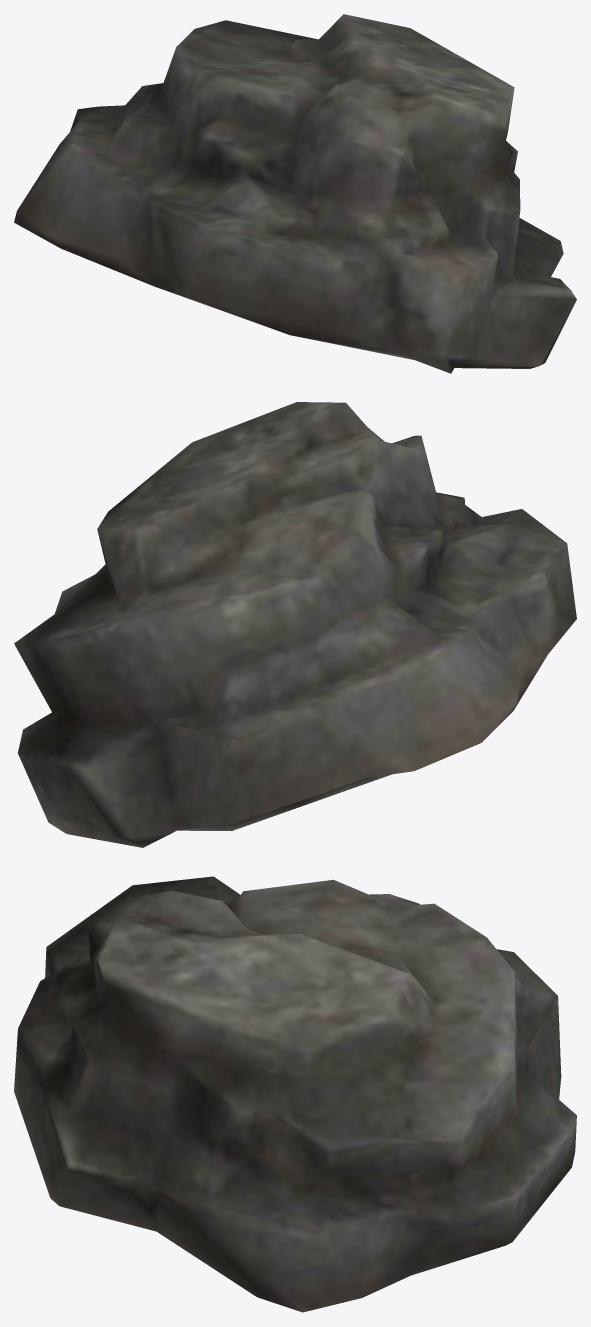
The model's file is firerock.obj.
The picture shows the model from 3 angles, top to bottom: view 1: azimuth 30°, elevation 25°; view 2: azimuth 150°, elevation 25°; view 3: azimuth 270°, elevation 25°; orthographic projection. The views are drawn at different scales.
Visible parts, largest first — view 1: Mesh_0161.rip_noesis_meshnode_0000.038; view 2: Mesh_0161.rip_noesis_meshnode_0000.038; view 3: Mesh_0161.rip_noesis_meshnode_0000.038.
Boxes of the visible parts, x1,y1,x2,y2 form: Mesh_0161.rip_noesis_meshnode_0000.038: (14,14,576,373); Mesh_0161.rip_noesis_meshnode_0000.038: (14,402,576,847); Mesh_0161.rip_noesis_meshnode_0000.038: (14,876,576,1312).
Bounding box in the file's own units: 8.35 × 5.51 × 8.99.
